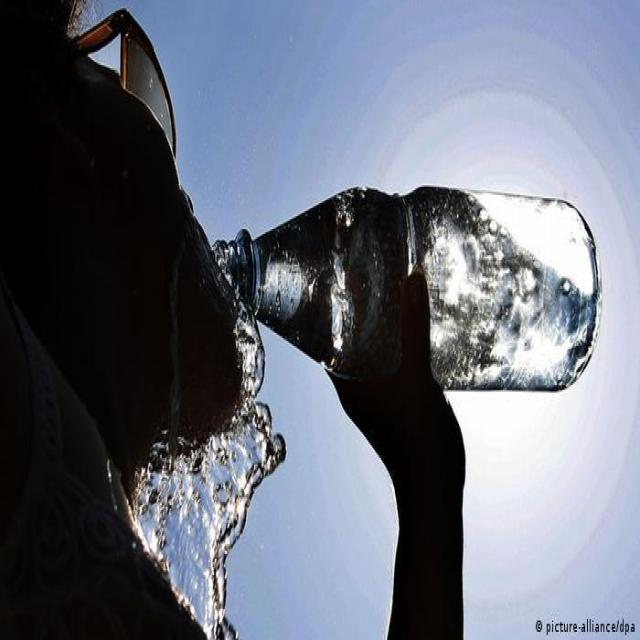bottle: (208, 188, 604, 394)
